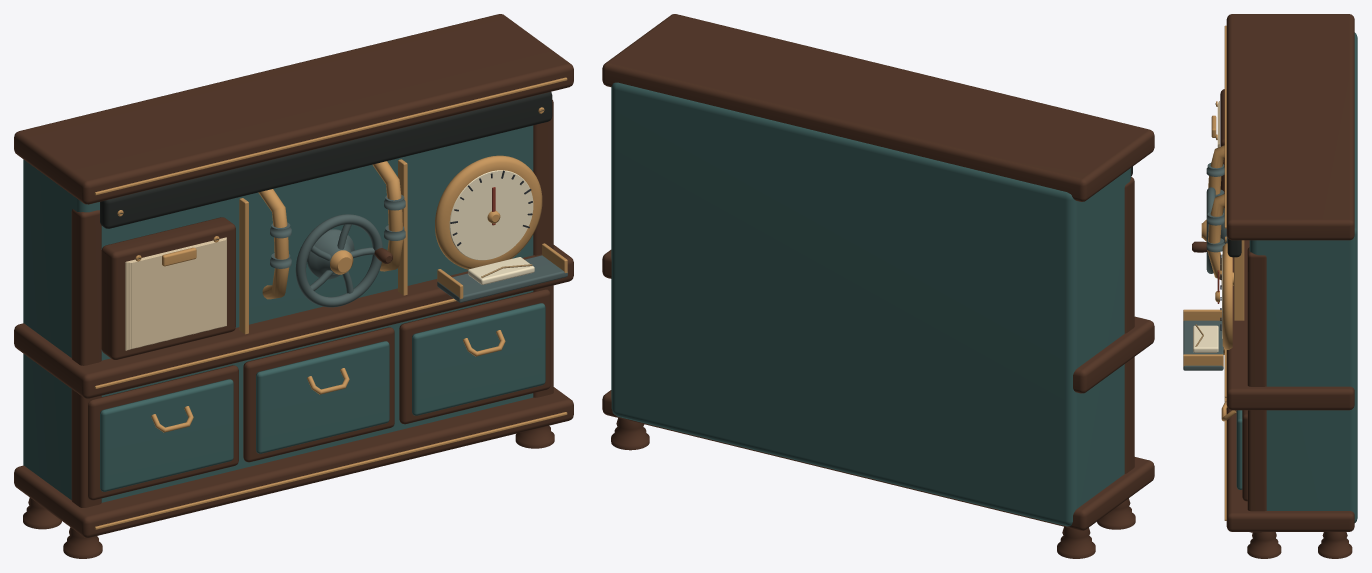
File: wash.glb
3 renders of one model, left to right at view 1: azimuth 30°, elevation 25°; view 2: azimuth 150°, elevation 25°; view 3: azimuth 270°, elevation 25°, orthographic. The views are drawn at different scales.
Visible parts, largest first — view 1: Projecting moulded rail.002, Carcass, Projecting moulded rail, Projecting moulded rail.001, Cast header plate, Fielded walnut panel, Fielded walnut panel.001, Fielded walnut panel.002, Deckled folio leaf.004, Dovetailed document tray, Ebonised stile, Pressure enamel face (+19 smaller); view 2: Carcass, Projecting moulded rail.002, Projecting moulded rail, Ebonised stile, Projecting moulded rail.001, Turned pilaster foot.001, Turned pilaster foot.003, Turned pilaster foot; view 3: Projecting moulded rail.002, Carcass, Projecting moulded rail.001, Ebonised stile.001, Projecting moulded rail, Stepped bezel, Hammered drip pan, Flanged copper gutter.001, Turned pilaster foot.002, Turned pilaster foot.003, Station divider.001, Waxed packet (+10 smaller).
Part boxes in pixels (<box>): Projecting moulded rail.002: <box>14,14,573,204</box>; Carcass: <box>23,125,533,502</box>; Projecting moulded rail: <box>14,387,573,537</box>; Projecting moulded rail.001: <box>14,245,573,398</box>; Cast header plate: <box>100,92,552,228</box>; Fielded walnut panel: <box>100,379,233,491</box>; Fielded walnut panel.001: <box>256,341,389,453</box>; Fielded walnut panel.002: <box>412,303,545,415</box>; Deckled folio leaf.004: <box>131,239,226,348</box>; Dovetailed document tray: <box>101,217,235,359</box>; Ebonised stile: <box>71,209,101,507</box>; Pressure enamel face: <box>449,170,533,260</box>; Carcass: <box>611,82,1130,526</box>; Projecting moulded rail.002: <box>602,14,1154,201</box>; Projecting moulded rail: <box>602,390,1154,530</box>; Ebonised stile: <box>1124,177,1134,473</box>; Projecting moulded rail.001: <box>602,250,1154,393</box>; Turned pilaster foot.001: <box>1057,526,1095,558</box>; Turned pilaster foot.003: <box>611,418,649,450</box>; Turned pilaster foot: <box>1097,498,1135,529</box>; Projecting moulded rail.002: <box>1226,14,1354,240</box>; Carcass: <box>1249,32,1357,522</box>; Projecting moulded rail.001: <box>1226,240,1354,410</box>; Ebonised stile.001: <box>1247,247,1266,532</box>; Projecting moulded rail: <box>1226,407,1354,531</box>; Stepped bezel: <box>1222,243,1232,349</box>; Hammered drip pan: <box>1183,320,1223,370</box>; Flanged copper gutter.001: <box>1207,194,1233,285</box>; Turned pilaster foot.002: <box>1247,532,1281,558</box>; Turned pilaster foot.003: <box>1318,532,1352,558</box>; Station divider.001: <box>1234,240,1244,320</box>; Waxed packet: <box>1193,325,1218,352</box>.
Bounding box in the file's own units: 2.52 × 1.9 × 0.8875.
